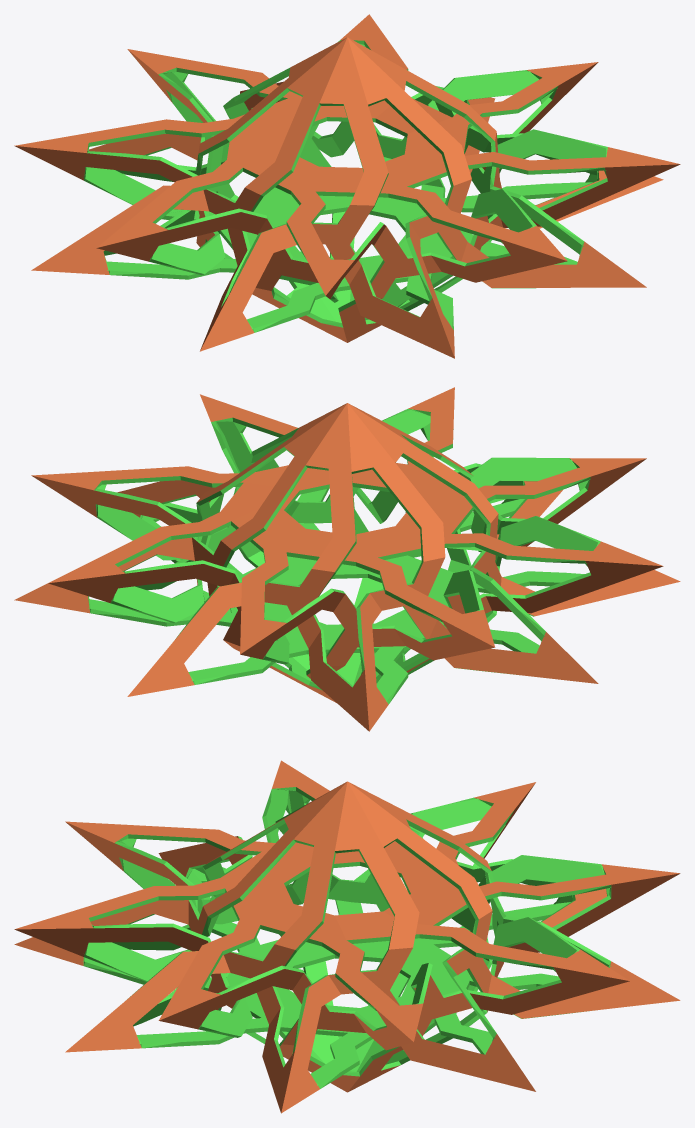
The model's file is AntiprismicPolyknot8.glb.
The picture shows the model from 3 angles, top to bottom: view 1: azimuth 30°, elevation 25°; view 2: azimuth 150°, elevation 25°; view 3: azimuth 270°, elevation 25°; orthographic projection.
Visible parts, largest first — view 1: ESCHER_BBBa_AP8; view 2: ESCHER_BBBa_AP8; view 3: ESCHER_BBBa_AP8.
Boxes of the visible parts, x1,y1,x2,y2 form: ESCHER_BBBa_AP8: [14, 14, 680, 358]; ESCHER_BBBa_AP8: [14, 387, 680, 731]; ESCHER_BBBa_AP8: [14, 760, 680, 1113].
Bounding box in the file's own units: 291 × 150 × 291.
